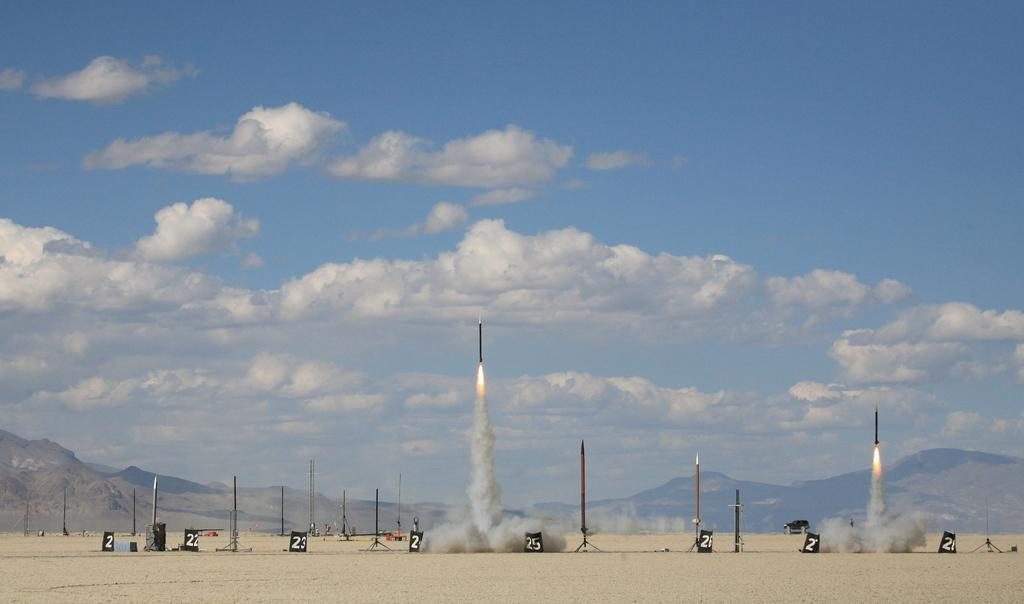Missile: (580, 440, 593, 535), (477, 310, 488, 361), (694, 450, 701, 526), (152, 473, 157, 532), (875, 407, 882, 446)
